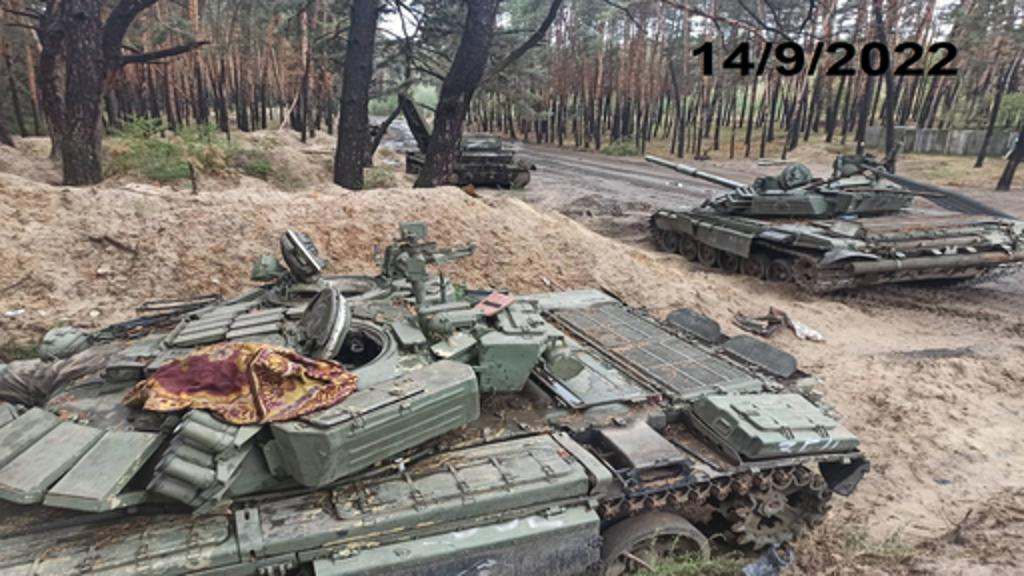TANK: (0, 222, 870, 572), (642, 150, 1014, 296), (404, 128, 532, 190)
